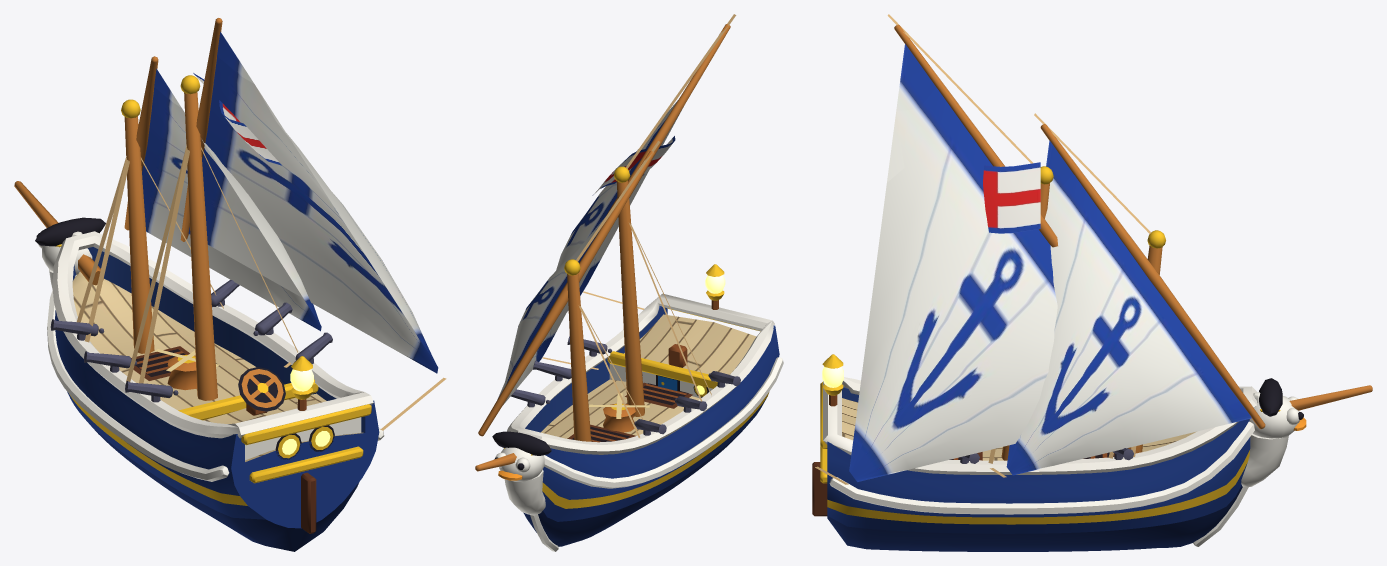
File: navy_skirmisher.glb
3 renders of one model, left to right at view 1: azimuth 30°, elevation 25°; view 2: azimuth 150°, elevation 25°; view 3: azimuth 270°, elevation 25°, orthographic. The views are drawn at different scales.
Parts seen in each view (by area): view 1: Hull, Sail1_0, Rigging, Sail0_0, Guns0, Flag; view 2: Hull, Rigging, Sail0_0, Sail1_0, Guns0, Flag; view 3: Sail1_0, Hull, Sail0_0, Rigging, Flag.
Boxes of the visible parts, left/top/right/bottom form: Hull: left=35, top=217, right=384, bottom=551; Sail1_0: left=188, top=31, right=438, bottom=373; Rigging: left=14, top=18, right=446, bottom=430; Sail0_0: left=142, top=68, right=321, bottom=331; Guns0: left=50, top=280, right=332, bottom=402; Flag: left=193, top=73, right=281, bottom=165; Hull: left=492, top=264, right=783, bottom=551; Rigging: left=475, top=14, right=736, bottom=471; Sail0_0: left=497, top=217, right=612, bottom=404; Sail1_0: left=541, top=100, right=683, bottom=344; Guns0: left=511, top=336, right=740, bottom=435; Flag: left=592, top=136, right=675, bottom=195; Sail1_0: left=849, top=44, right=1057, bottom=481; Hull: left=812, top=354, right=1306, bottom=551; Sail0_0: left=1006, top=140, right=1251, bottom=475; Rigging: left=815, top=14, right=1372, bottom=484; Flag: left=983, top=162, right=1040, bottom=233.
Size of the model in its own units: 0.9226 by 1.87 by 1.86.
8 materials, 4 textured.
